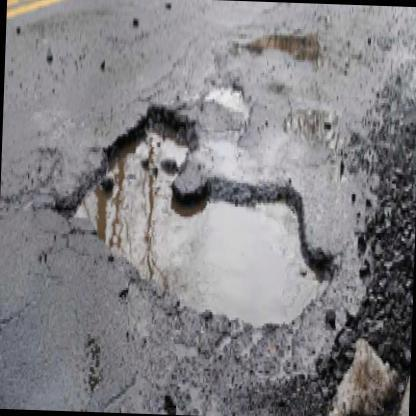pothole: (46, 101, 342, 335), (284, 95, 354, 160), (247, 24, 326, 70), (202, 80, 258, 142)
